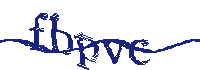b: (49, 12, 73, 58)
c: (130, 38, 151, 67)
f: (29, 11, 48, 51)
p: (75, 32, 99, 70)
v: (102, 36, 126, 65)
